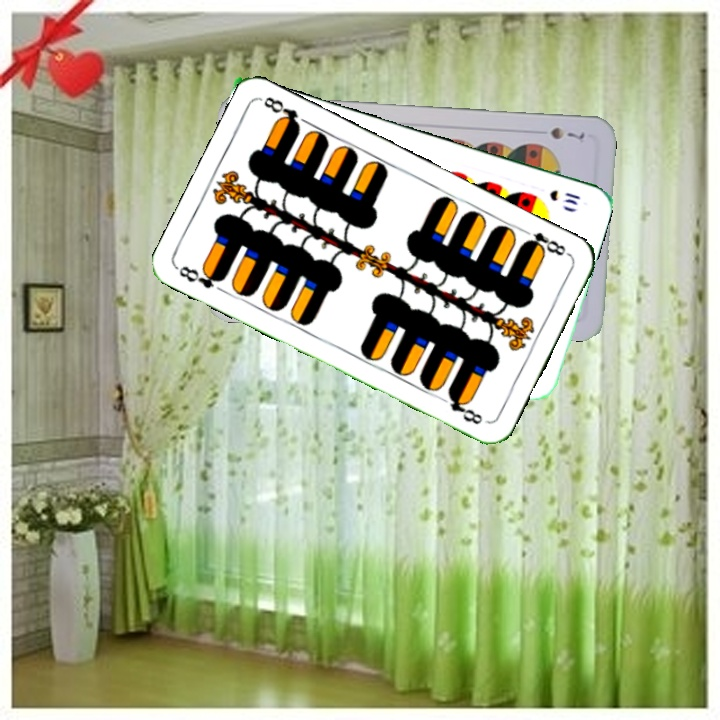E8: (517, 224, 572, 259), (173, 262, 228, 291)
S10: (545, 185, 583, 208)
S7: (546, 123, 587, 142)
